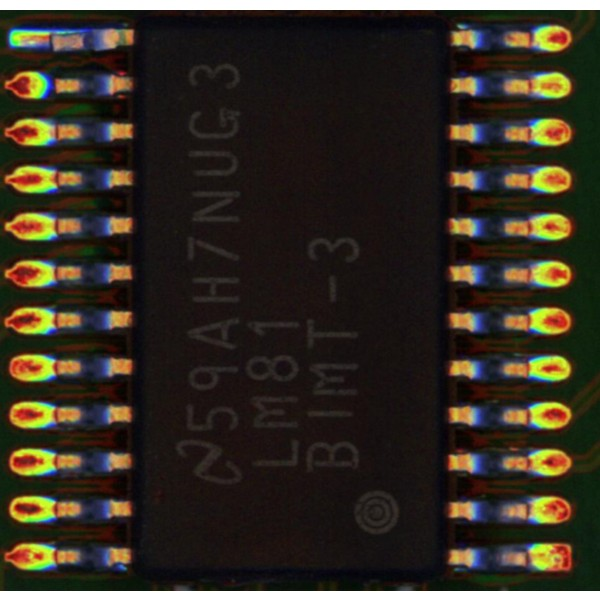Bad_podu: (32, 34, 68, 47)
Bad_qiaojiao: (51, 29, 87, 35)
